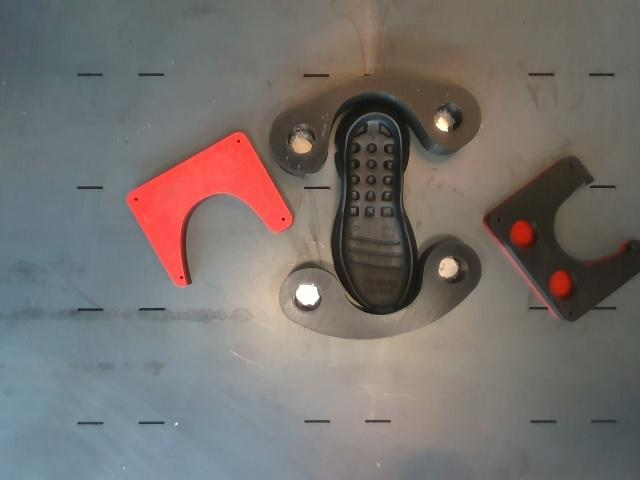shoes: (341, 113, 413, 312)
